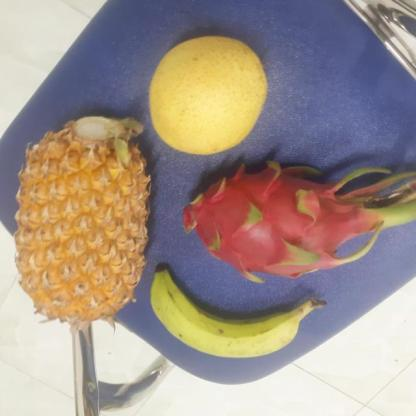banana: (149, 270, 307, 359)
pear: (147, 36, 270, 156)
pineapple: (15, 111, 154, 320)
pitaya: (166, 161, 363, 280)
